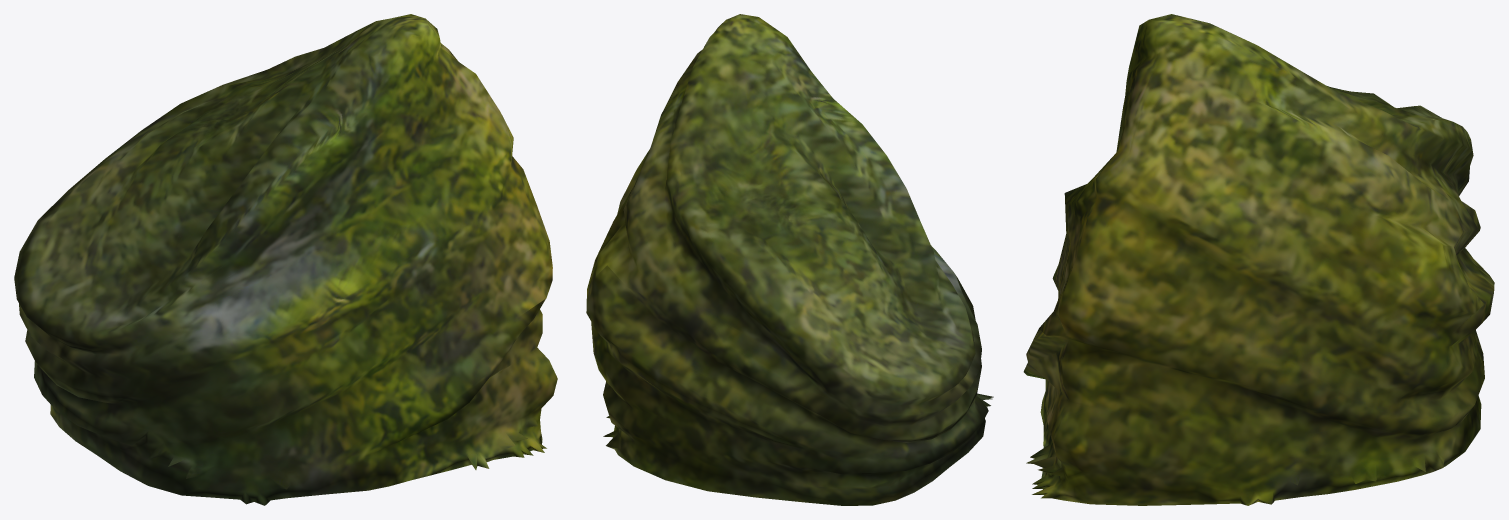
Rendered from mossy+rock+3d+model.fbx.
The picture shows the model from 3 angles, left to right: view 1: azimuth 30°, elevation 25°; view 2: azimuth 150°, elevation 25°; view 3: azimuth 270°, elevation 25°; orthographic projection. The views are drawn at different scales.
Visible parts, largest first — view 1: tripo_1e465a90_6d7e_4193_8cdc_e29d82ce8585; view 2: tripo_1e465a90_6d7e_4193_8cdc_e29d82ce8585; view 3: tripo_1e465a90_6d7e_4193_8cdc_e29d82ce8585.
Boxes of the visible parts, bbox=[...] form: tripo_1e465a90_6d7e_4193_8cdc_e29d82ce8585: bbox=[14, 14, 557, 505]; tripo_1e465a90_6d7e_4193_8cdc_e29d82ce8585: bbox=[586, 14, 993, 505]; tripo_1e465a90_6d7e_4193_8cdc_e29d82ce8585: bbox=[1023, 14, 1494, 505].
Size of the model in its own units: 0.9995 by 0.9536 by 0.9185.
